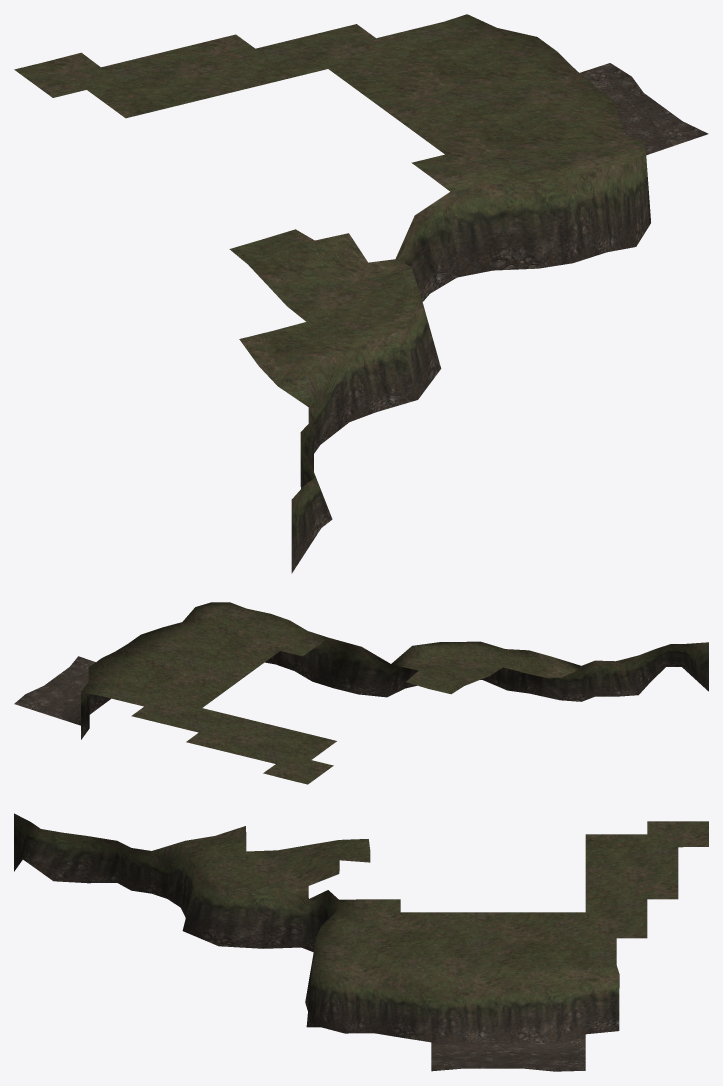
File: menu_terrain_base.fbx
3 renders of one model, top to bottom at view 1: azimuth 30°, elevation 25°; view 2: azimuth 150°, elevation 25°; view 3: azimuth 270°, elevation 25°, orthographic. The views are drawn at different scales.
Parts seen in each view (by area): view 1: menu_terrain_base-0; view 2: menu_terrain_base-0; view 3: menu_terrain_base-0.
Part boxes in pixels (bbox=[...]): menu_terrain_base-0: bbox=[14, 14, 708, 573]; menu_terrain_base-0: bbox=[14, 602, 708, 784]; menu_terrain_base-0: bbox=[14, 813, 708, 1071].
Bounding box in the file's own units: 50.52 × 10.17 × 56.37.
